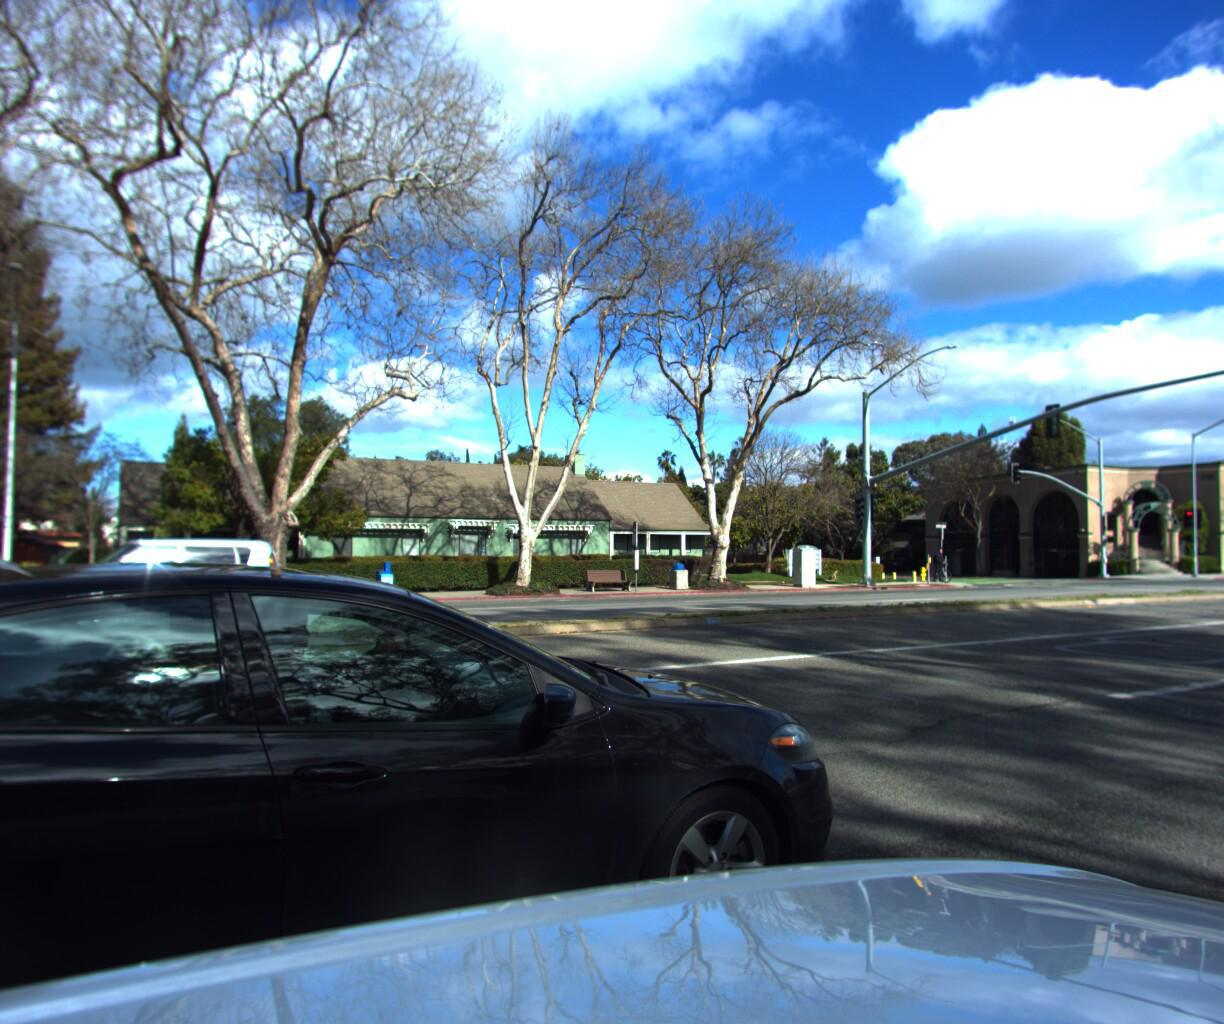bicycle: (915, 544, 956, 579)
car: (0, 537, 885, 1024), (0, 521, 250, 770), (0, 525, 293, 649)
